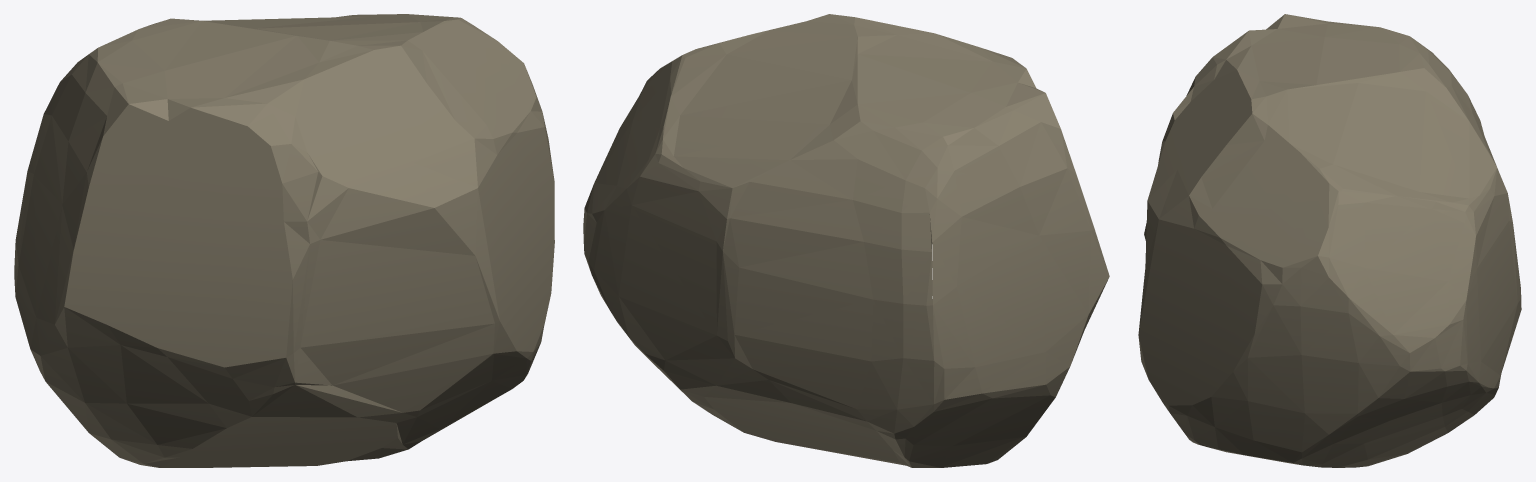
Rendered from rock-b.glb.
3 renders of one model, left to right at view 1: azimuth 30°, elevation 25°; view 2: azimuth 150°, elevation 25°; view 3: azimuth 270°, elevation 25°, orthographic. The views are drawn at different scales.
Bounding box in the file's own units: 0.77 × 0.6117 × 0.5839.
